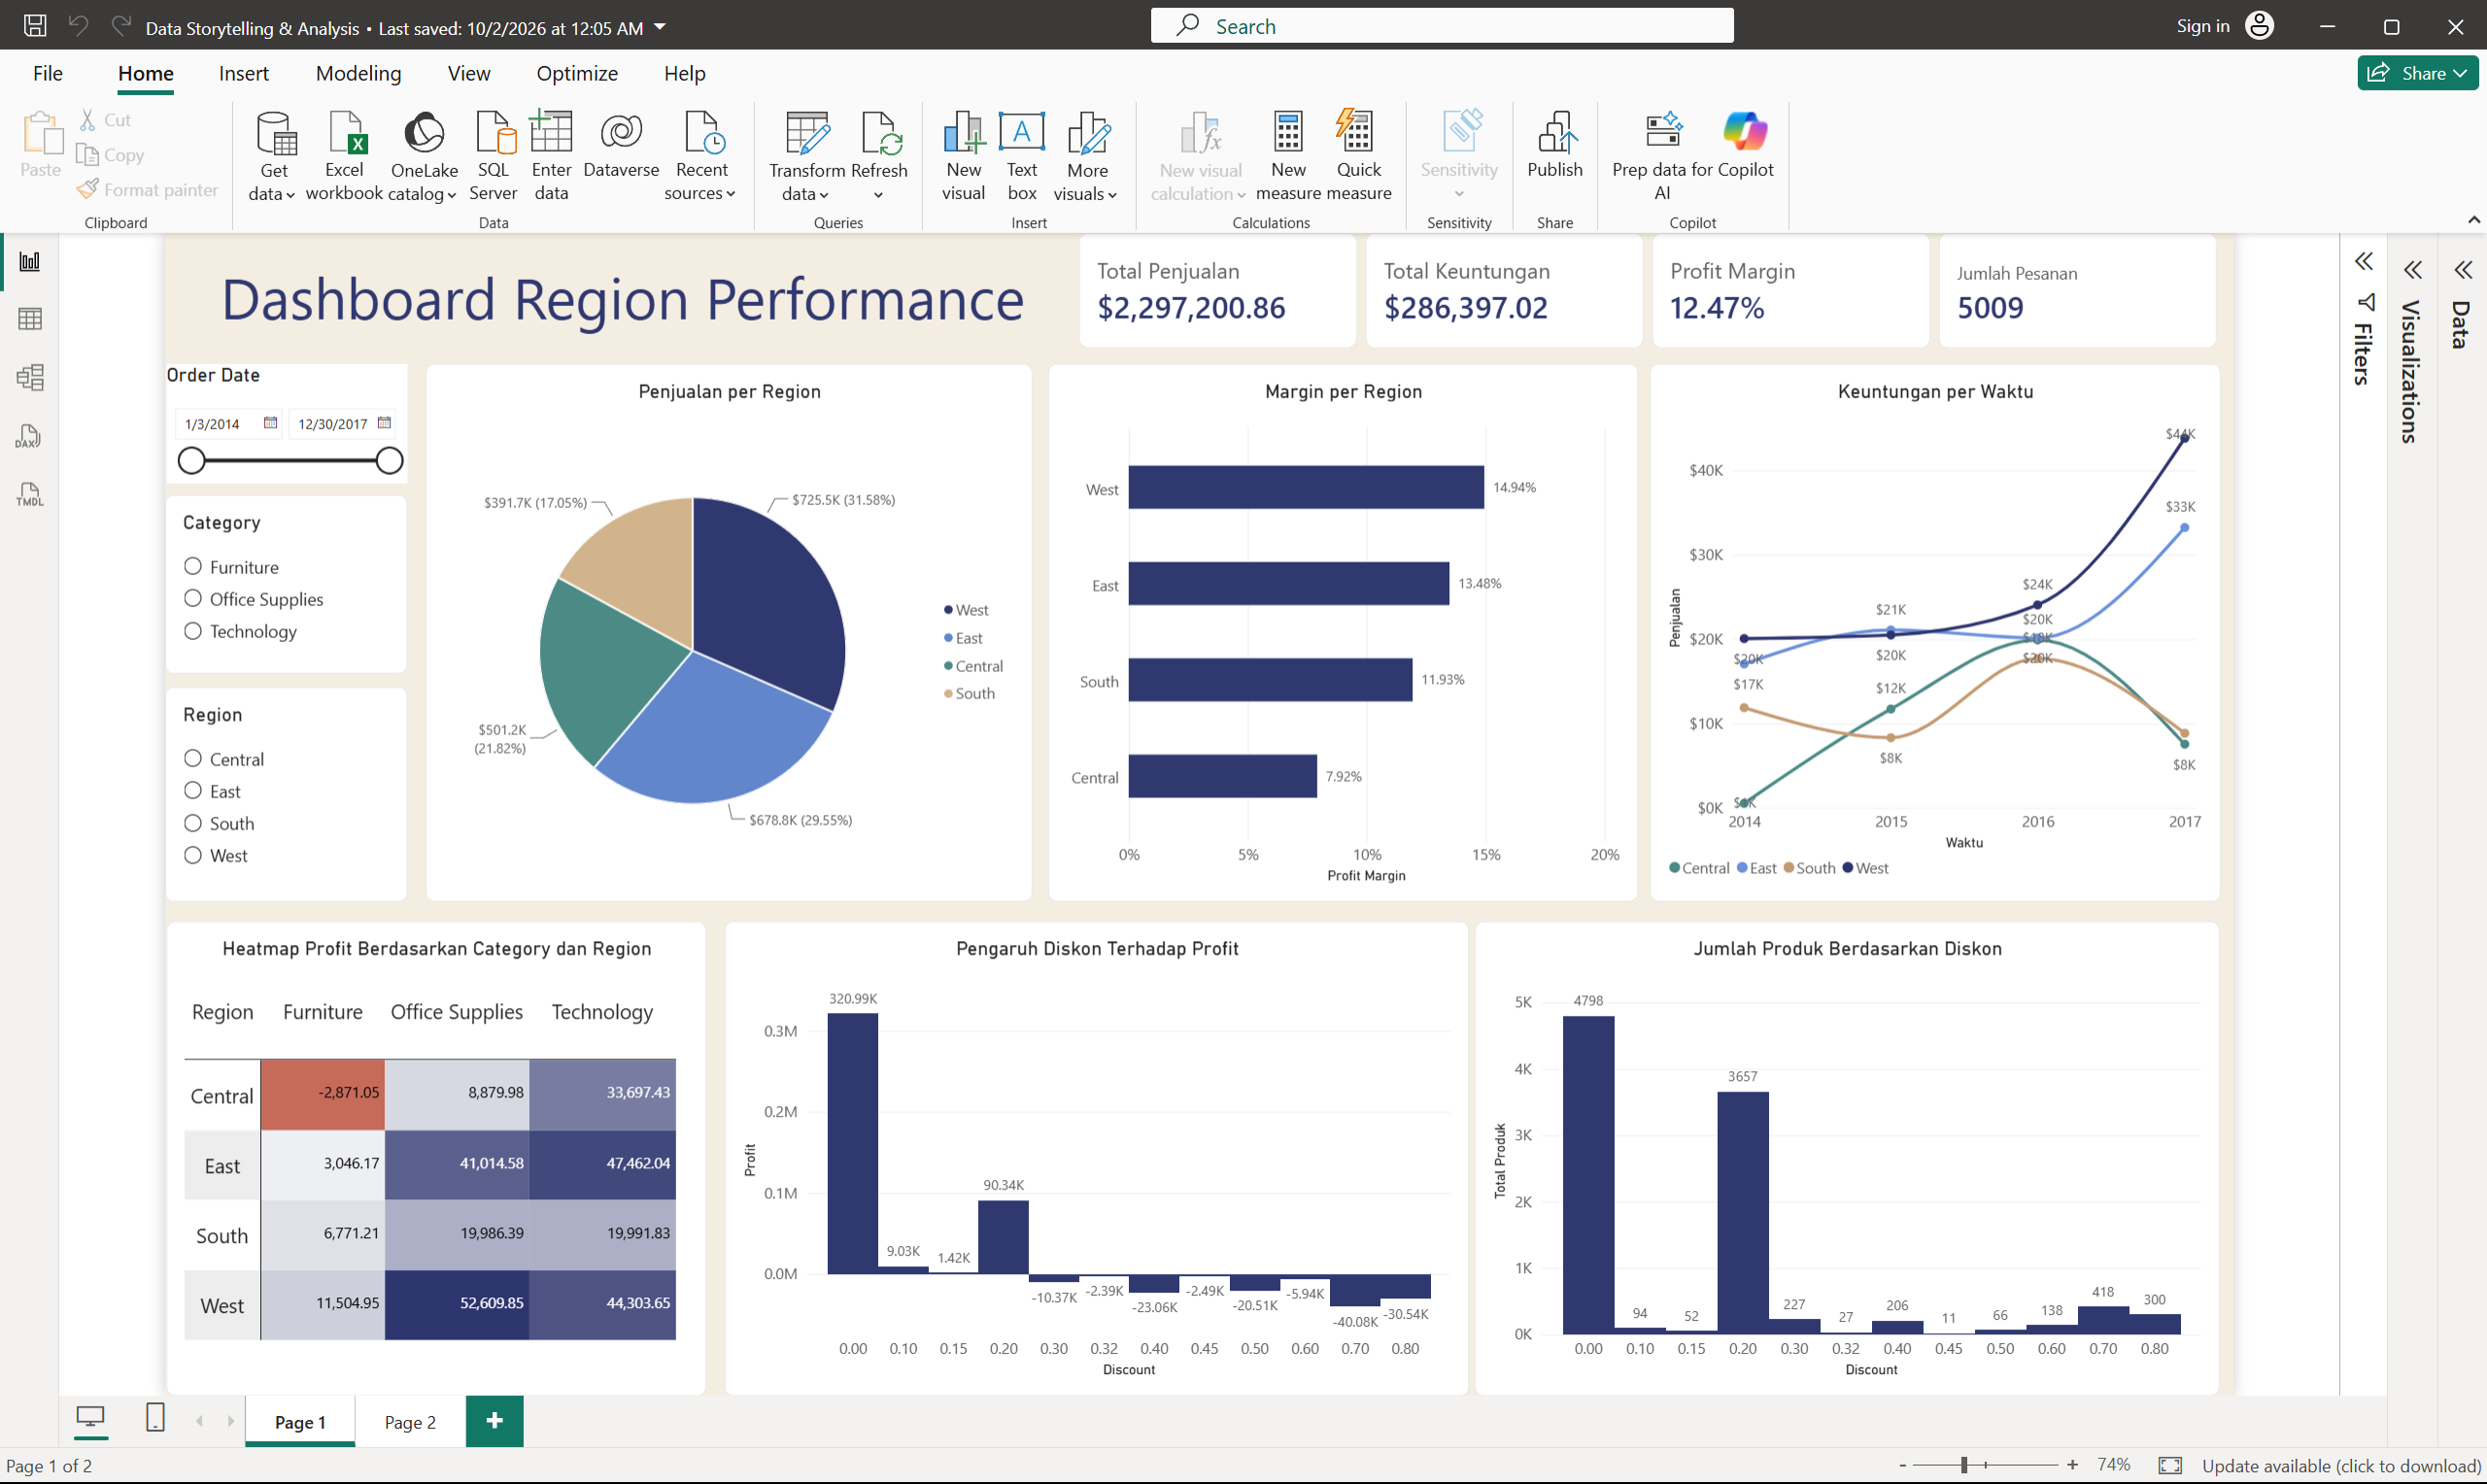

What the dashboard file says about the page in this screenshot:
{"tool":"powerbi","page":{"name":"Page 1","canvas":[1920,1080],"ordinal":0},"visuals":[{"type":"pieChart","title":"Penjualan per Region","fields":{"Category":["Superstore_Clean.Region"],"Y":["Sum(Superstore_Clean.Sales)"]},"box":[241.4,122.2,562.7,499.4],"z":0},{"type":"barChart","title":"Margin per Region","fields":{"Category":["Superstore_Clean.Region"],"Y":["Superstore_Clean.Profit_Margin"]},"box":[819.2,122.2,547.6,499.4],"z":1000},{"type":"lineChart","title":"Keuntungan per Waktu","fields":{"Category":["Superstore_Clean.Order Date.Variation.Date Hierarchy.Year","Superstore_Clean.Order Date.Variation.Date Hierarchy.Quarter","Superstore_Clean.Order Date.Variation.Date Hierarchy.Month","Superstore_Clean.Order Date.Variation.Date Hierarchy.Day"],"Series":["Superstore_Clean.Region"],"Y":["Sum(Superstore_Clean.Profit)"]},"box":[1377.4,122.2,529.5,499.4],"z":2000},{"type":"pivotTable","title":"Heatmap Profit Berdasarkan Category dan Region","fields":{"Columns":["Superstore_Clean.Category"],"Rows":["Superstore_Clean.Region"],"Values":["Sum(Superstore_Clean.Profit)"]},"box":[1.5,639.7,500.9,440.5],"z":3000},{"type":"cardVisual","fields":{"Data":["Sum(Superstore_Clean.Sales)","Sum(Superstore_Clean.Profit)","Superstore_Clean.Profit_Margin","Count(Superstore_Clean.Order ID)"]},"box":[847.9,0,1059.1,107.1],"z":4000},{"type":"clusteredColumnChart","title":"Pengaruh Diskon Terhadap Profit","fields":{"Category":["Superstore_Clean.Discount"],"Y":["Sum(Superstore_Clean.Profit)"]},"box":[519,639.7,691,440.5],"z":5000},{"type":"slicer","title":"Order Date","fields":{"Values":["Superstore_Clean.Order Date"]},"box":[1.5,122.2,223.3,110.1],"z":6000},{"type":"listSlicer","fields":{"Values":["Superstore_Clean.Category"]},"box":[0,242.9,224.8,166],"z":7000},{"type":"listSlicer","fields":{"Values":["Superstore_Clean.Region"]},"box":[0,422.4,224.8,199.1],"z":8000},{"type":"textbox","box":[1.5,22.6,846.4,84.5],"z":9000},{"type":"clusteredColumnChart","title":"Jumlah Produk Berdasarkan Diskon","fields":{"Category":["Superstore_Clean.Discount"],"Y":["CountNonNull(Superstore_Clean.Product ID)"]},"box":[1216,639.7,691,440.5],"z":10001}]}

Visuals, with their boxes on the page's 1920x1080 design canvas (x1, y1, x2, y2). These are canvas units, not pixel positions in the 2487x1484 screenshot, which may show the page scaled, cropped or inside an application window:
"Penjualan per Region" pieChart: detection(241, 122, 804, 622)
"Margin per Region" barChart: detection(819, 122, 1367, 622)
"Keuntungan per Waktu" lineChart: detection(1377, 122, 1907, 622)
"Heatmap Profit Berdasarkan Category dan Region" pivotTable: detection(2, 640, 502, 1080)
cardVisual - Sum(Superstore_Clean.Sales) x Sum(Superstore_Clean.Profit): detection(848, 0, 1907, 107)
"Pengaruh Diskon Terhadap Profit" clusteredColumnChart: detection(519, 640, 1210, 1080)
"Order Date" slicer: detection(2, 122, 225, 232)
listSlicer - Superstore_Clean.Category: detection(0, 243, 225, 409)
listSlicer - Superstore_Clean.Region: detection(0, 422, 225, 622)
textbox: detection(2, 23, 848, 107)
"Jumlah Produk Berdasarkan Diskon" clusteredColumnChart: detection(1216, 640, 1907, 1080)
